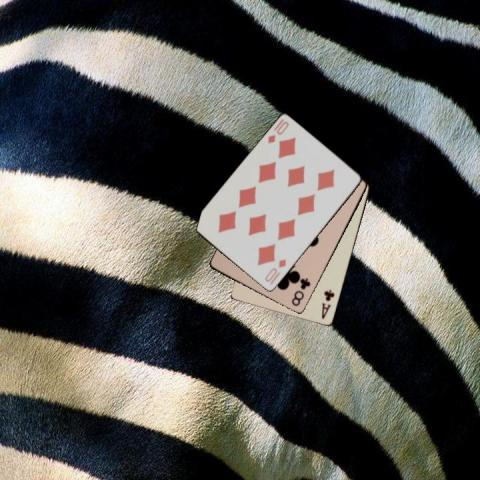10d: (264, 119, 290, 145), (262, 256, 287, 283)
8c: (289, 275, 312, 308)
Ac: (319, 287, 336, 321)
